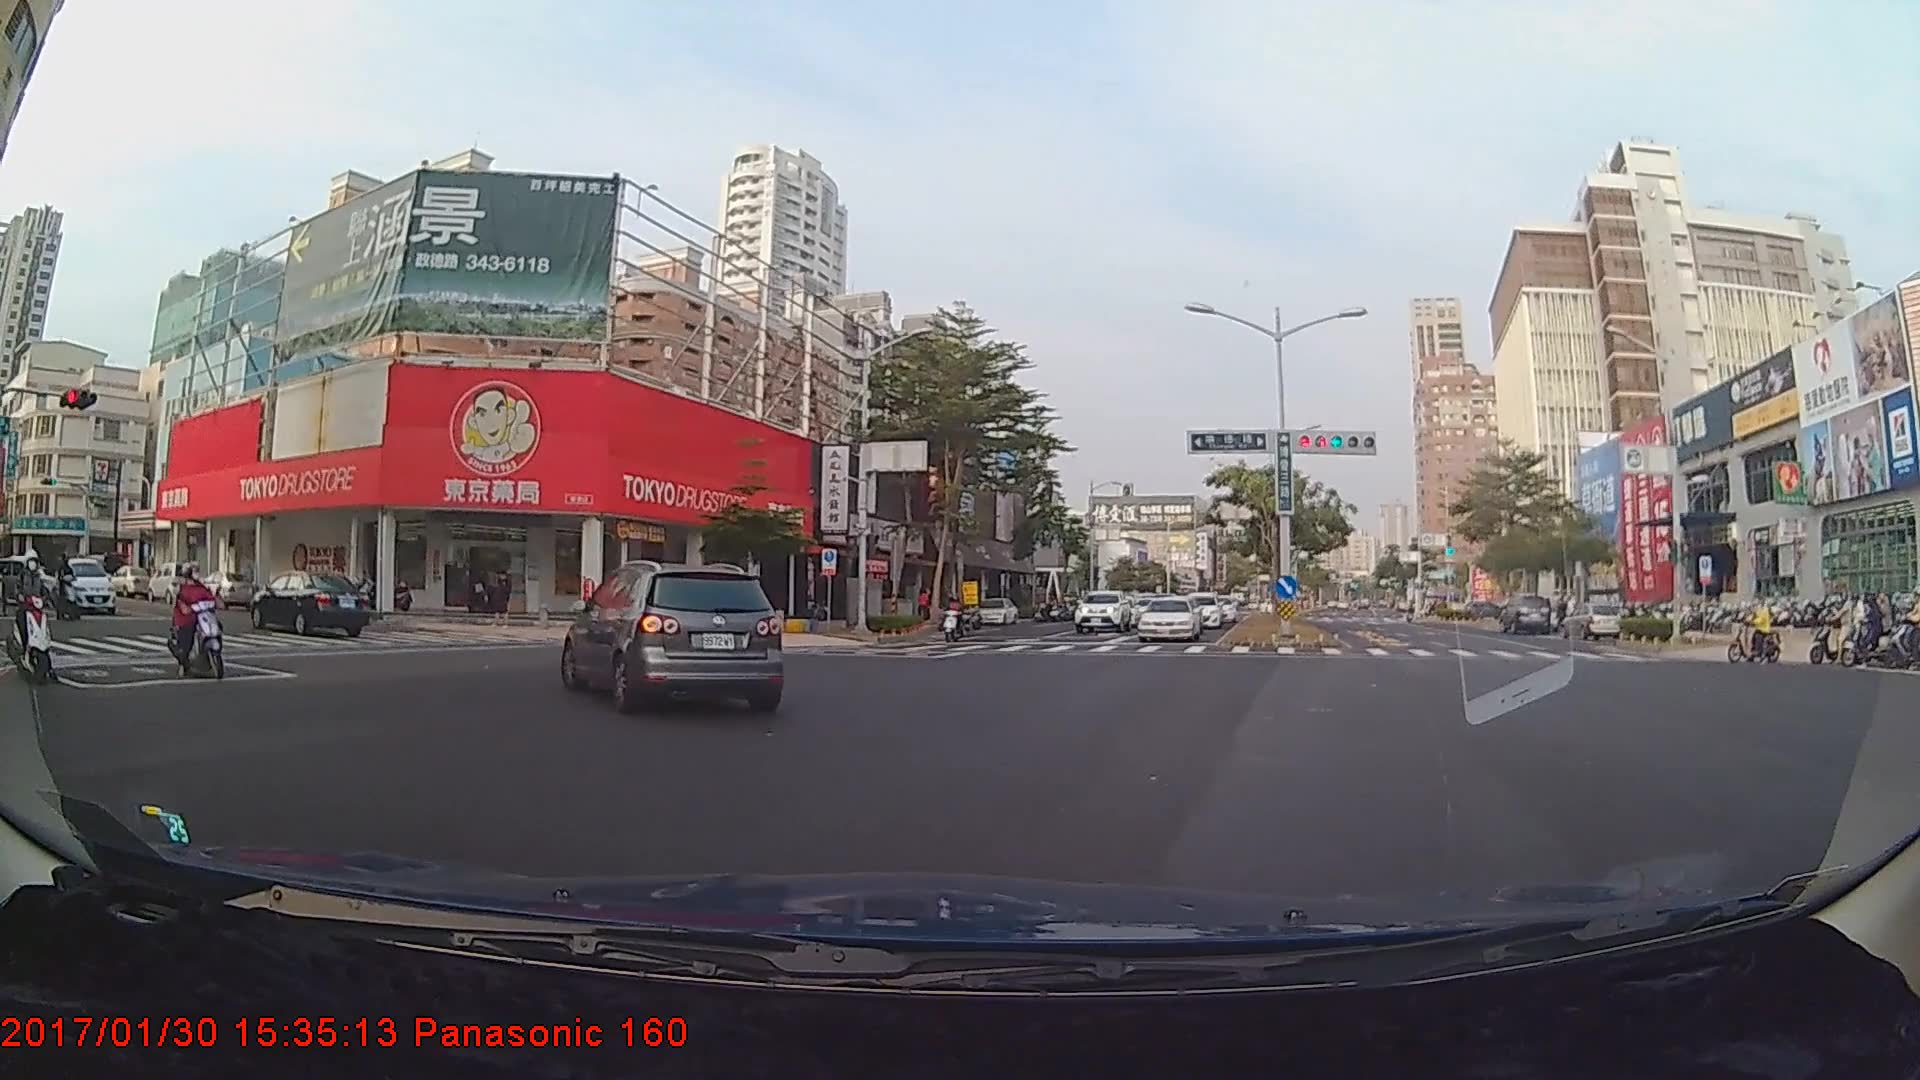rider: (166, 560, 231, 682), (7, 555, 69, 681), (939, 585, 967, 640)
vehicle: (564, 562, 782, 713), (250, 570, 371, 639), (54, 555, 116, 611), (1135, 593, 1198, 638), (1073, 587, 1131, 631), (1497, 592, 1551, 632), (1179, 588, 1220, 629), (972, 595, 1017, 624)
